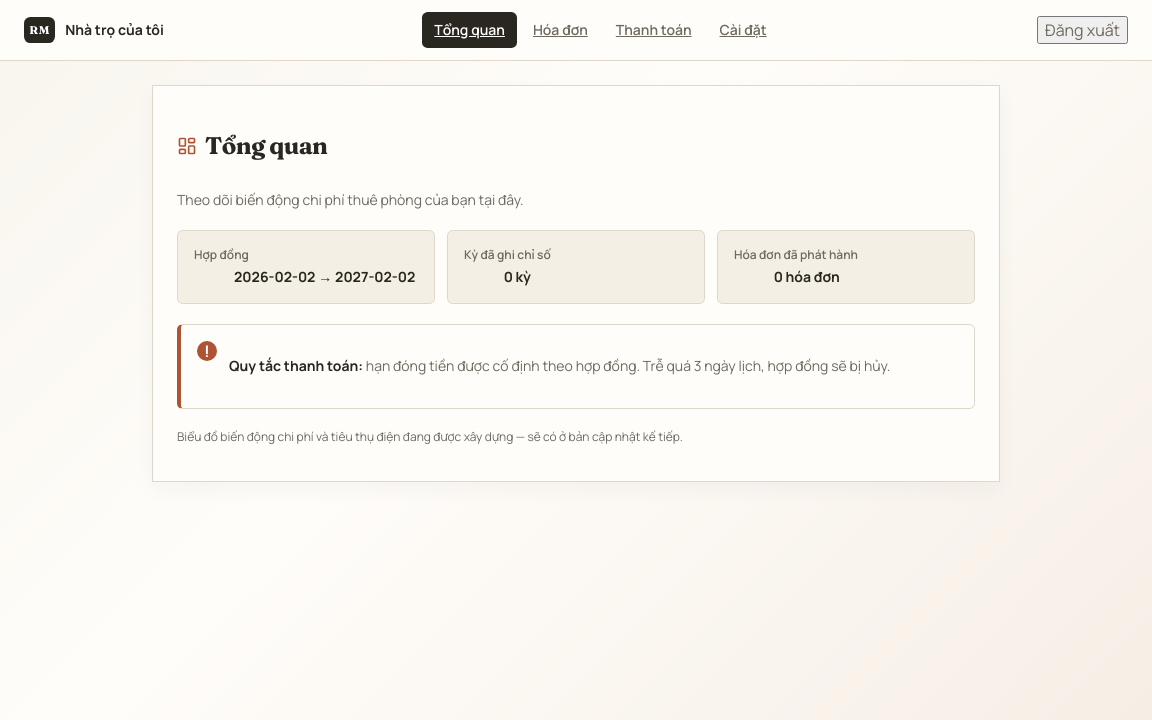
Test: App shell › navigates to the bills page from the nav
Click the link "Hóa đơn". click: [560, 30]
box: [533,20,588,39]
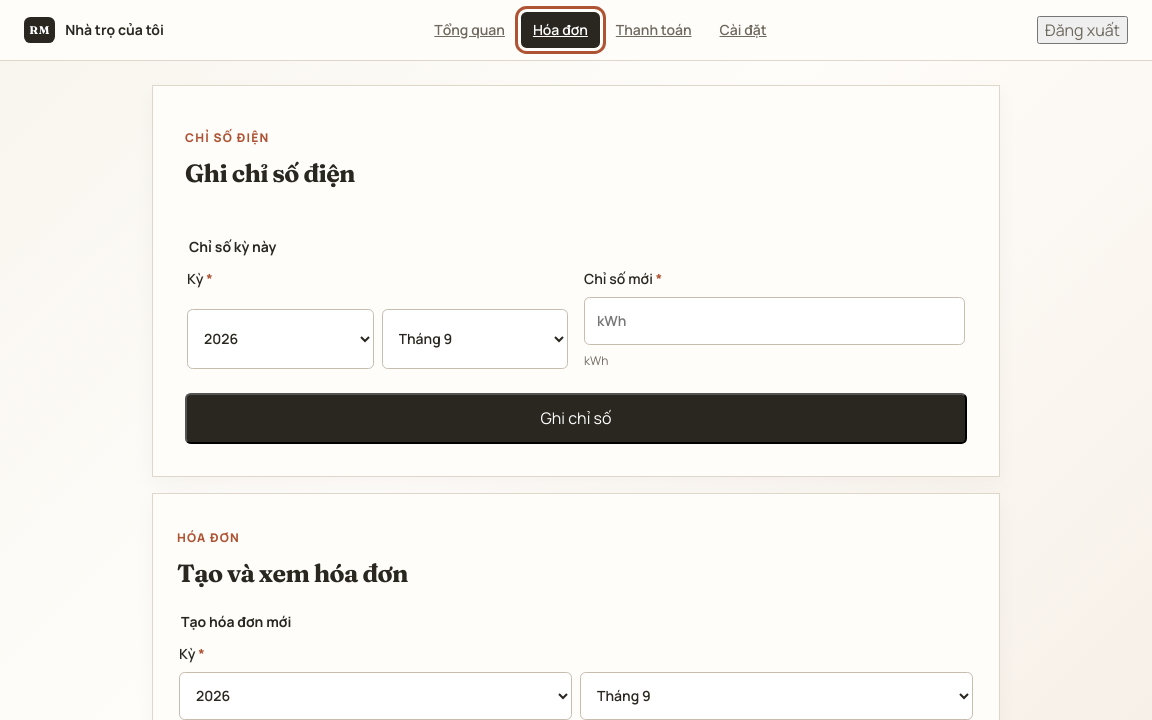
Result: the heading "Ghi chỉ số điện" is shown at [185,158,355,188]
Result: the heading "Tạo và xem hóa đơn" is shown at [177,558,408,588]
